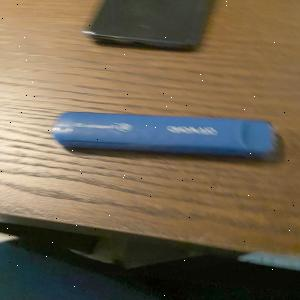Diamond-E-Ciggirate: (46, 110, 278, 162)
